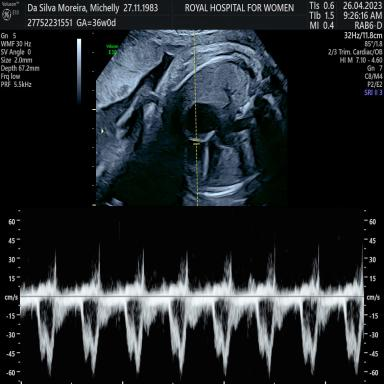Ultrasound-Waves: (26, 216, 361, 384)
